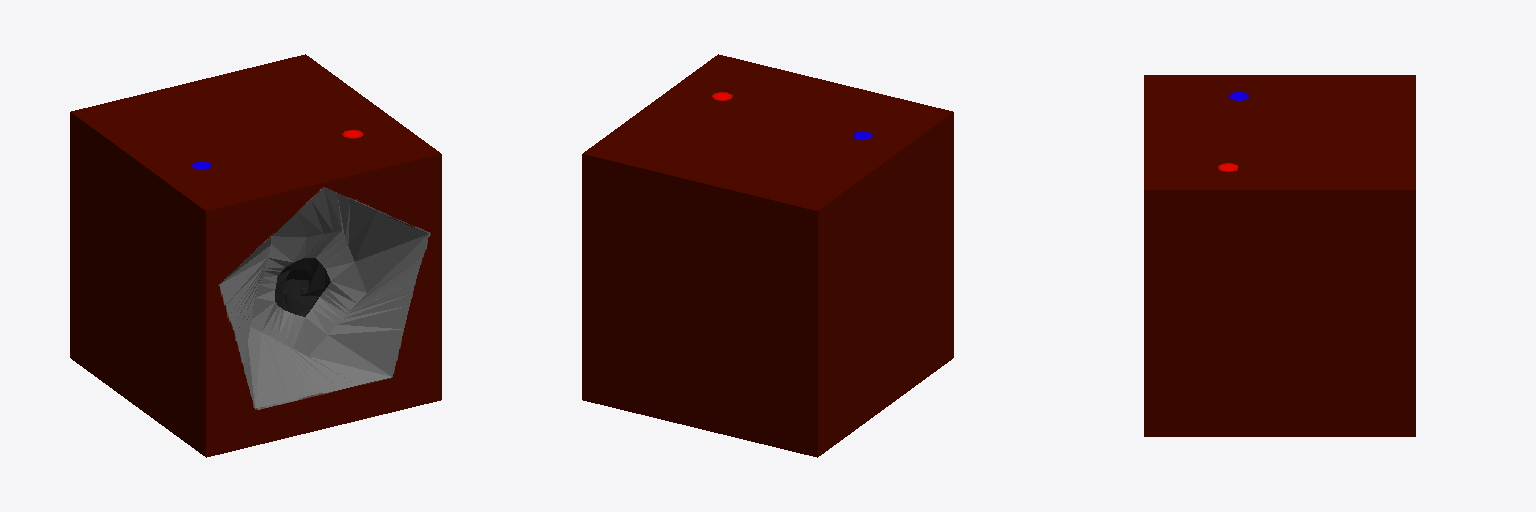
3 renders of one model, left to right at view 1: azimuth 30°, elevation 25°; view 2: azimuth 150°, elevation 25°; view 3: azimuth 270°, elevation 25°, orthographic.
Parts seen in each view (by area): view 1: Cube; view 2: Cube; view 3: Cube.
Part boxes in pixels (bbox=[...]): Cube: bbox=[70, 54, 441, 457]; Cube: bbox=[582, 54, 953, 457]; Cube: bbox=[1144, 75, 1415, 436].
Bounding box in the file's own units: 2 × 2 × 2.
1 materials, 1 textured.